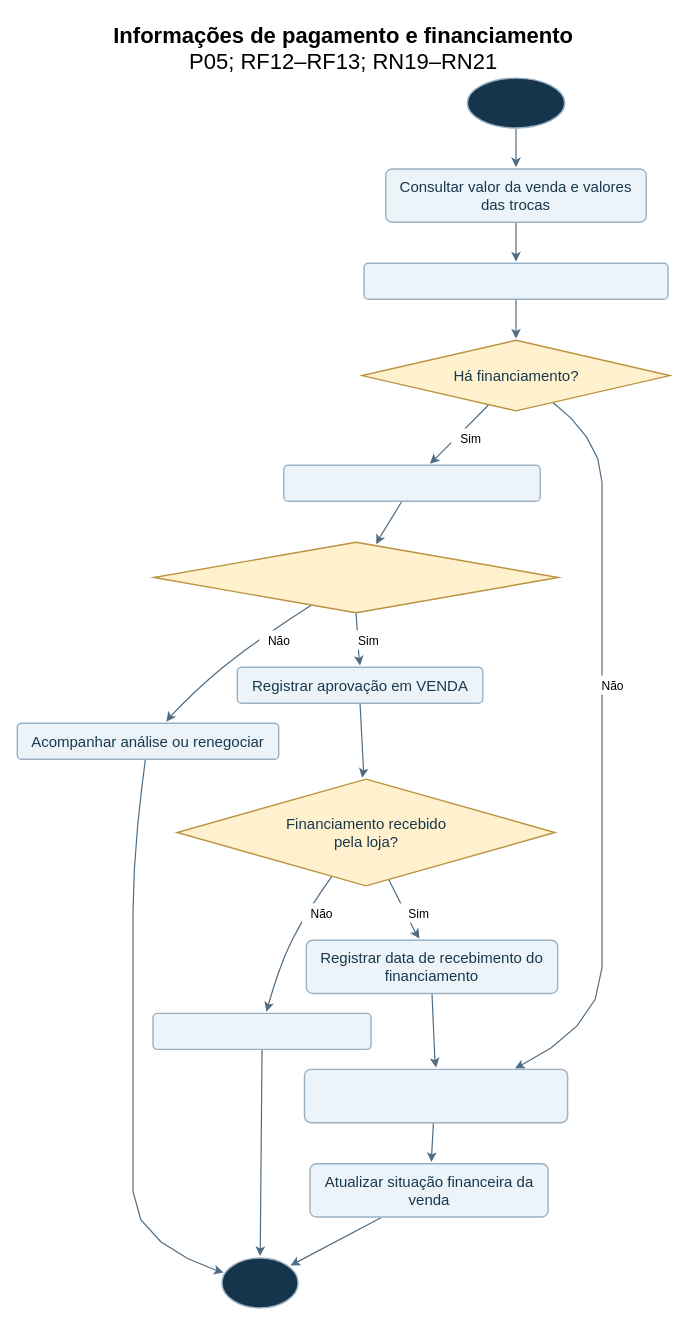
Some shapes in this 688 by 1326 pixel diagram are drawn without their labels. Each missing label, with the centre of its shape:
Atualizar total recebido e data mais recente: pixel 435 1095
Fim: pixel 259 1282
Financiamento aprovado?: pixel 355 577
Início: pixel 515 102
Manter pendência financeira: pixel 261 1031
Registrar banco e valor financiado: pixel 411 482
Registrar formas_pagamento em VENDA: pixel 515 281
